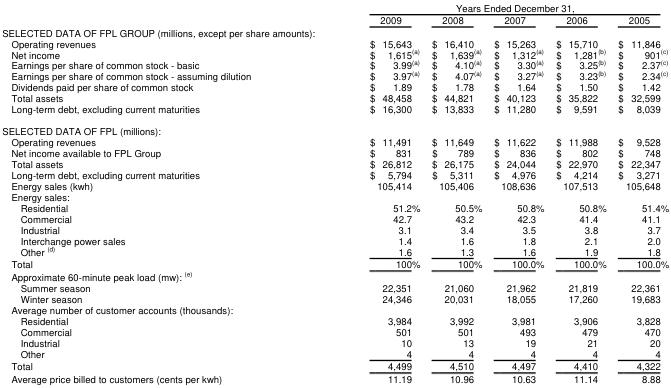table: (1, 0, 668, 384)
table column: (1, 0, 309, 384), (309, 0, 425, 384), (425, 0, 487, 384), (487, 0, 549, 384), (549, 0, 611, 384), (611, 0, 668, 384)
table column header: (1, 0, 668, 25)
table projected row header: (1, 119, 668, 135), (1, 25, 668, 37), (1, 269, 668, 281), (1, 190, 668, 201), (1, 303, 668, 314)
table row: (1, 103, 668, 119), (1, 119, 668, 135), (1, 0, 668, 13), (1, 371, 668, 384), (1, 13, 668, 25), (1, 25, 668, 37), (1, 69, 668, 81), (1, 245, 668, 257), (1, 257, 668, 269), (1, 269, 668, 281), (1, 347, 668, 359), (1, 359, 668, 371), (1, 47, 668, 58), (1, 58, 668, 69), (1, 81, 668, 92), (1, 92, 668, 103), (1, 135, 668, 146), (1, 146, 668, 157), (1, 157, 668, 168), (1, 168, 668, 179), (1, 179, 668, 190), (1, 190, 668, 201), (1, 201, 668, 212), (1, 212, 668, 223), (1, 223, 668, 234), (1, 234, 668, 245), (1, 281, 668, 292), (1, 292, 668, 303), (1, 303, 668, 314), (1, 314, 668, 325), (1, 325, 668, 336), (1, 336, 668, 347), (1, 37, 668, 47)
table spanning cell: (309, 0, 668, 13)
